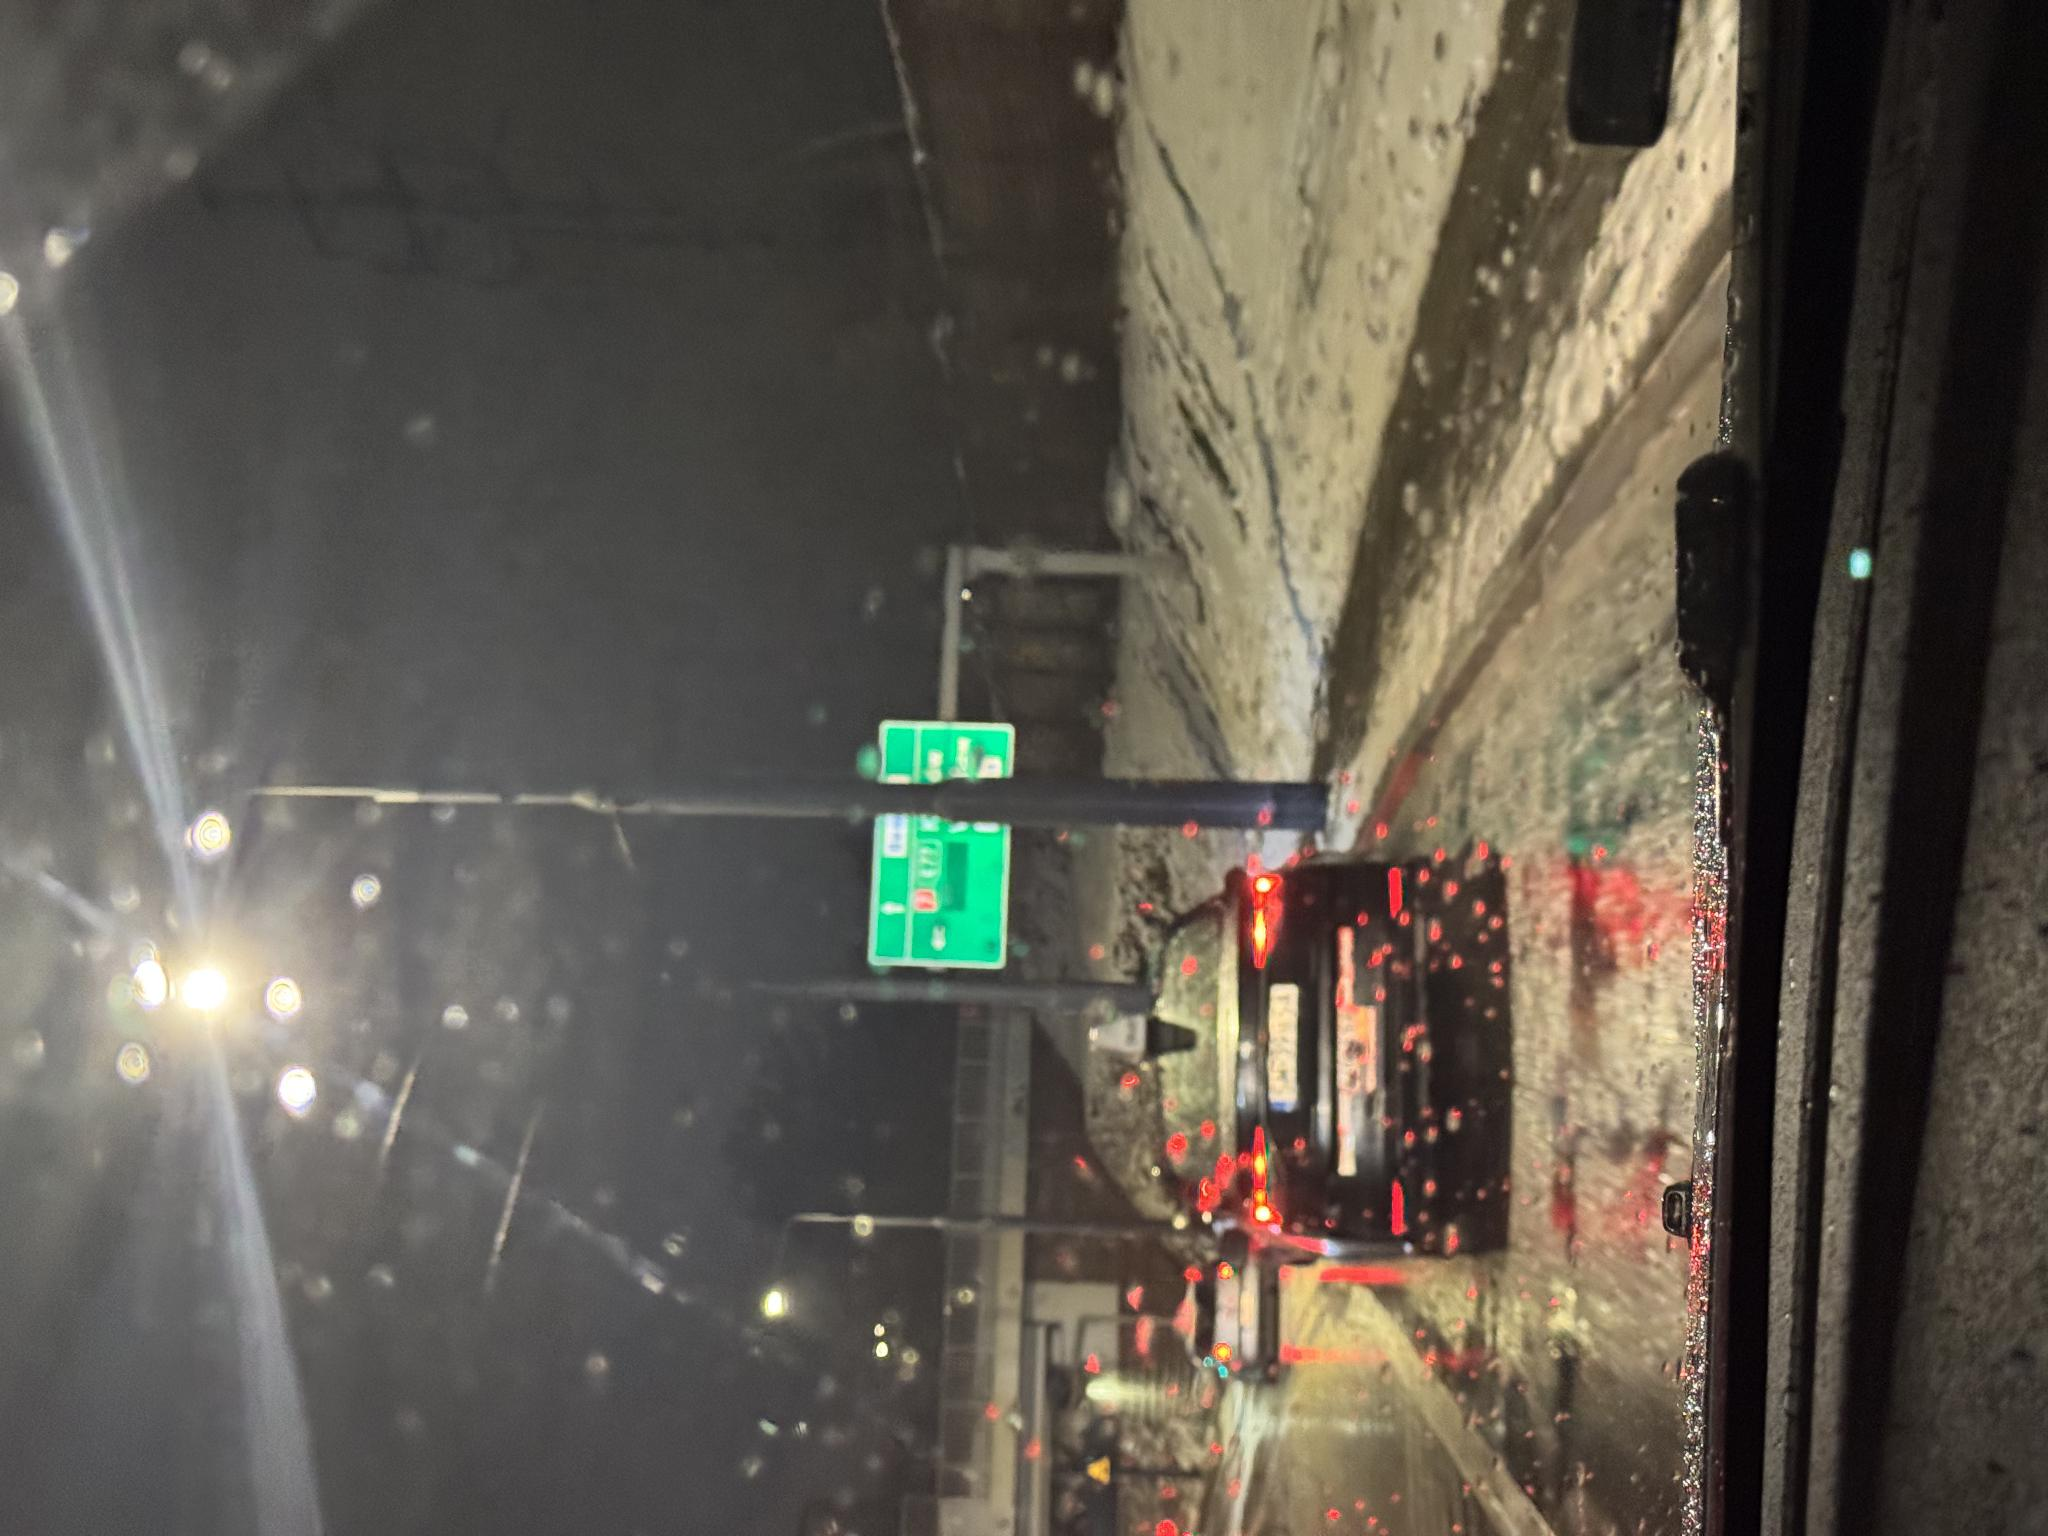direction-city: (566, 866, 722, 1013), (750, 876, 814, 1018)
warning: (53, 1084, 82, 1112)
